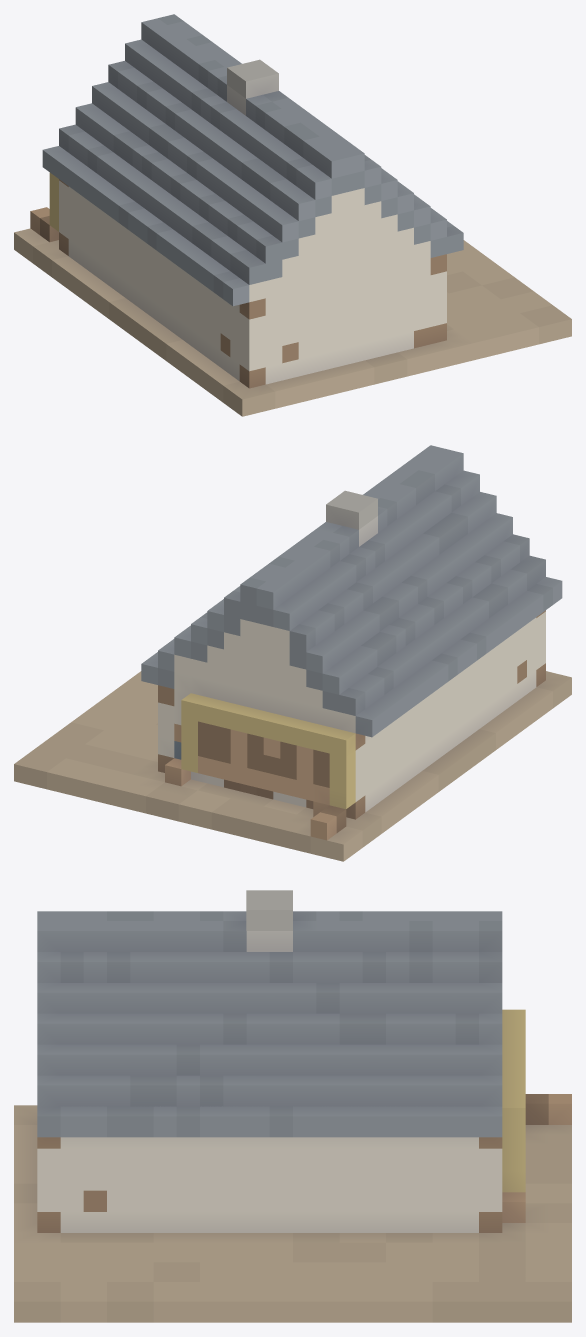
The model's file is brewery.lite.glb.
The picture shows the model from 3 angles, top to bottom: view 1: azimuth 30°, elevation 25°; view 2: azimuth 150°, elevation 25°; view 3: azimuth 270°, elevation 25°; orthographic projection. The views are drawn at different scales.
Visible parts, largest first — view 1: brewery; view 2: brewery; view 3: brewery.
Part boxes in pixels (x1,y1,x2,y2): brewery: (14, 14, 571, 416); brewery: (14, 445, 571, 861); brewery: (14, 890, 571, 1322).
Bounding box in the file's own units: 5 × 3.5 × 6.
